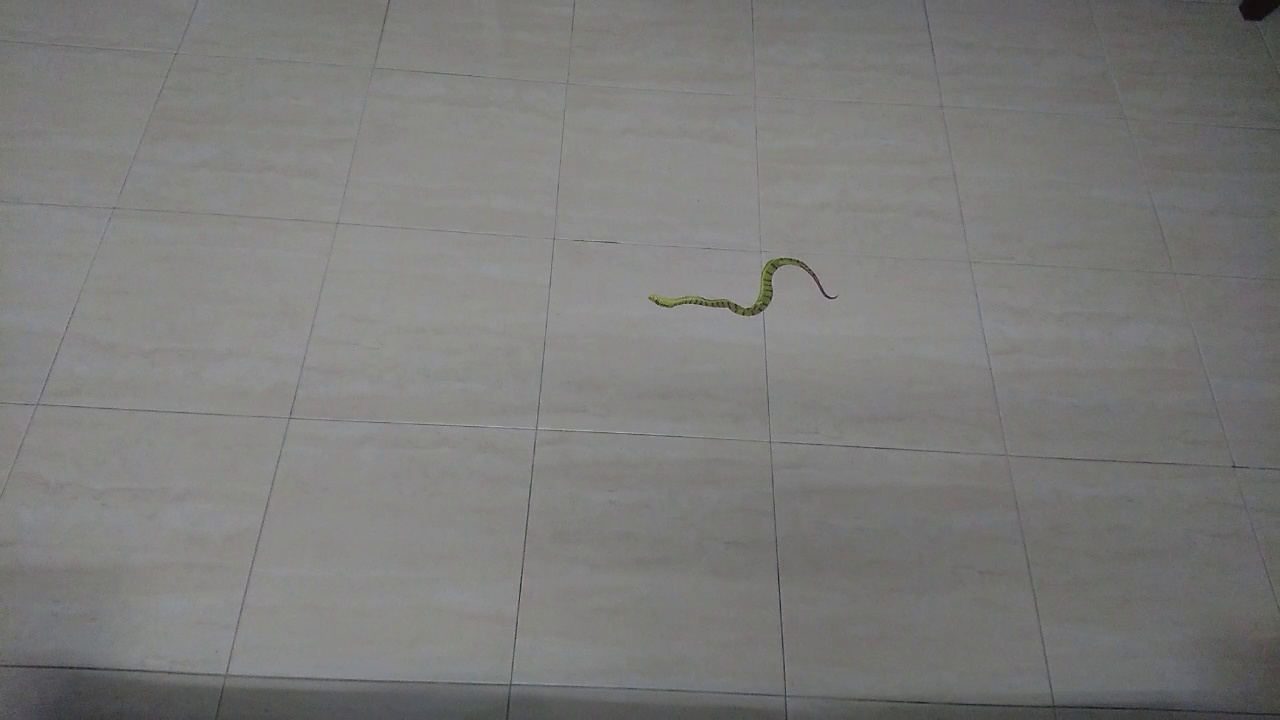snake: (630, 241, 852, 329)
